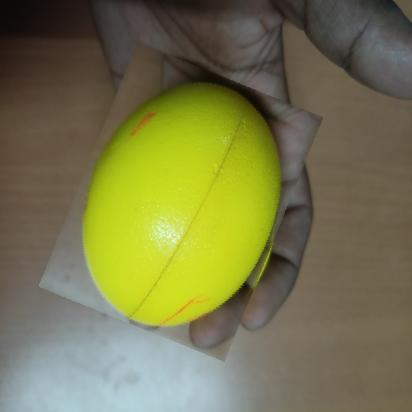Yellowball: (60, 56, 303, 348)
